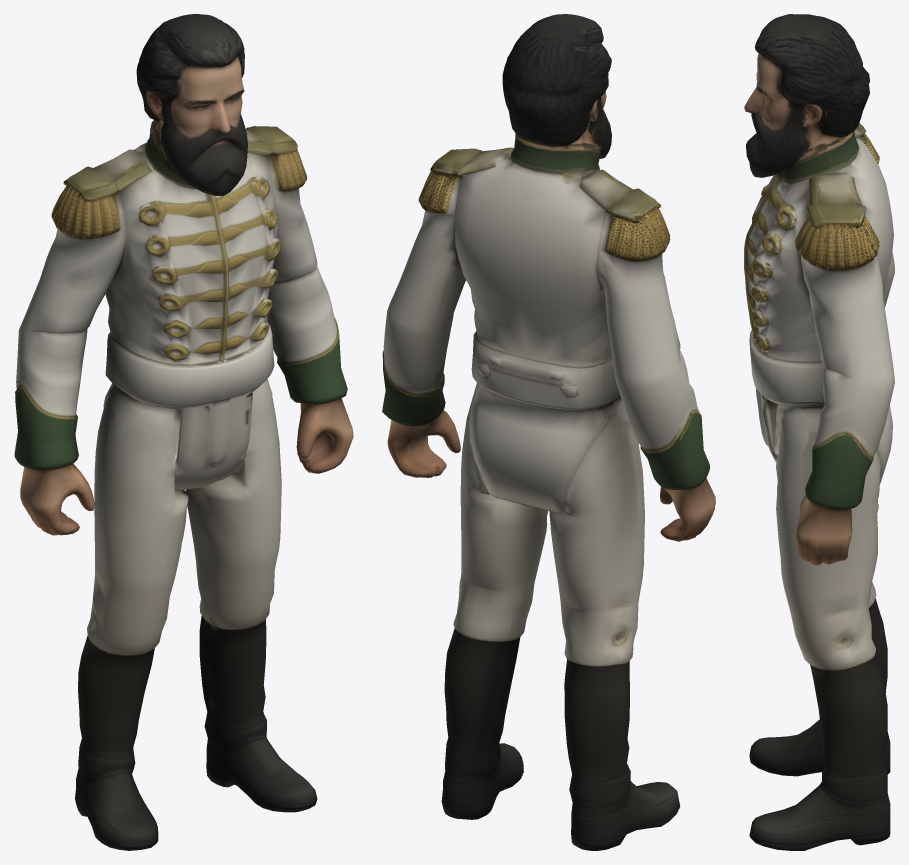
The model's file is guemes_segmentado_lq_texturas.fbx.
3 renders of one model, left to right at view 1: azimuth 30°, elevation 25°; view 2: azimuth 150°, elevation 25°; view 3: azimuth 270°, elevation 25°, orthographic.
Parts seen in each view (by area): view 1: mesh_rep_0_ori_repair_quad; view 2: mesh_rep_0_ori_repair_quad; view 3: mesh_rep_0_ori_repair_quad.
Part boxes in pixels (x1,y1,x2,y2): mesh_rep_0_ori_repair_quad: [14, 14, 353, 850]; mesh_rep_0_ori_repair_quad: [382, 14, 715, 850]; mesh_rep_0_ori_repair_quad: [744, 14, 894, 850].
Size of the model in its own units: 48.91 by 116 by 20.28.
Materials: 1 (1 with a texture image).
